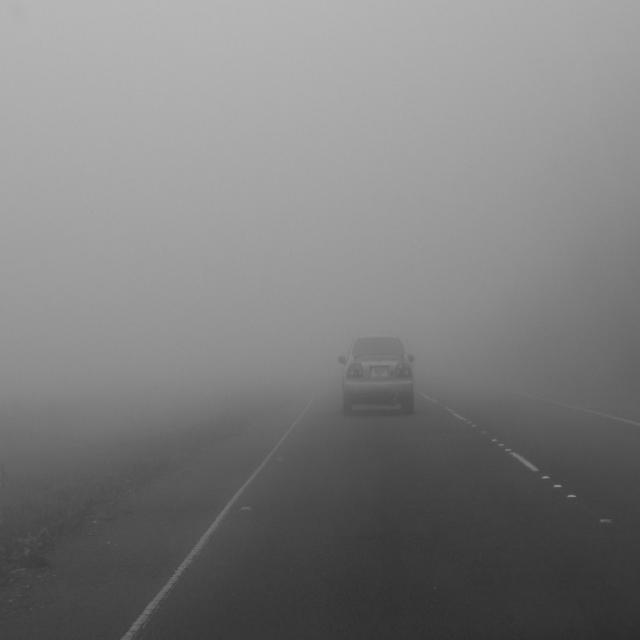car: (340, 336, 414, 416)
